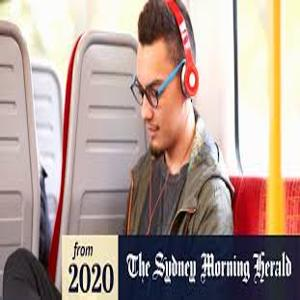Headphones: (153, 1, 202, 101)
